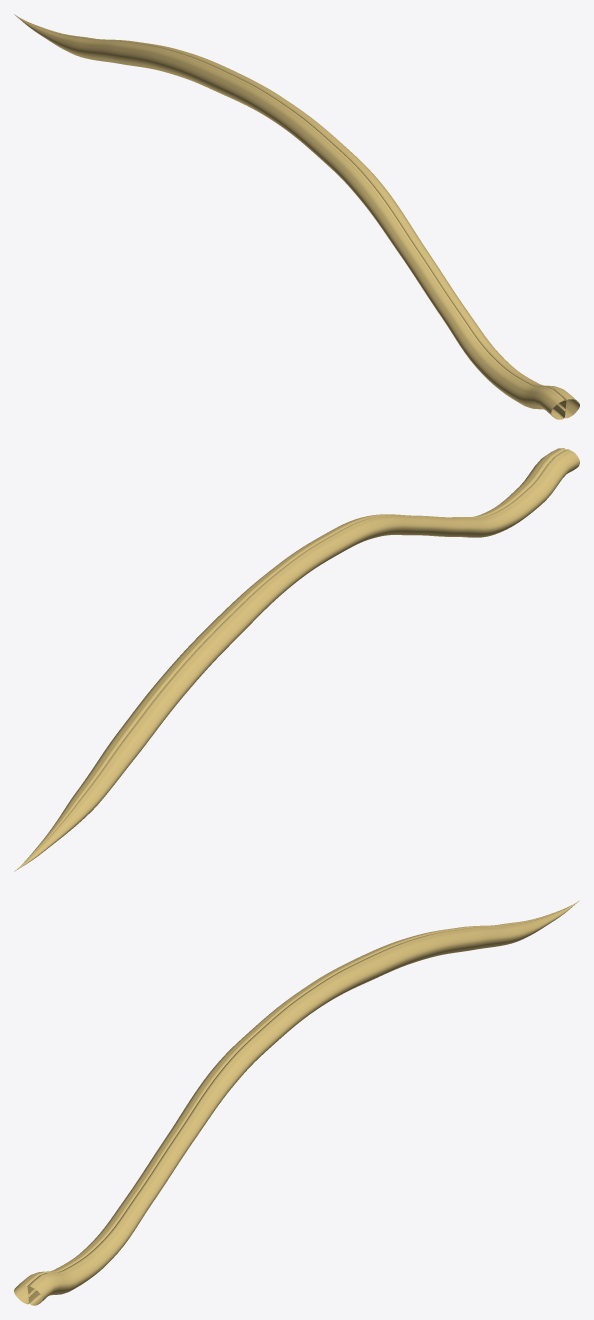
3 renders of one model, top to bottom at view 1: azimuth 30°, elevation 25°; view 2: azimuth 150°, elevation 25°; view 3: azimuth 330°, elevation 25°, orthographic.
Visible parts, largest first — view 1: 脊髓白质; view 2: 脊髓白质; view 3: 脊髓白质.
Boxes of the visible parts, left/top/right/bottom form: 脊髓白质: left=14, top=14, right=579, bottom=419; 脊髓白质: left=14, top=448, right=579, bottom=871; 脊髓白质: left=14, top=900, right=579, bottom=1305.
Size of the model in its own units: 0.0217 by 0.0883 by 0.7227.
